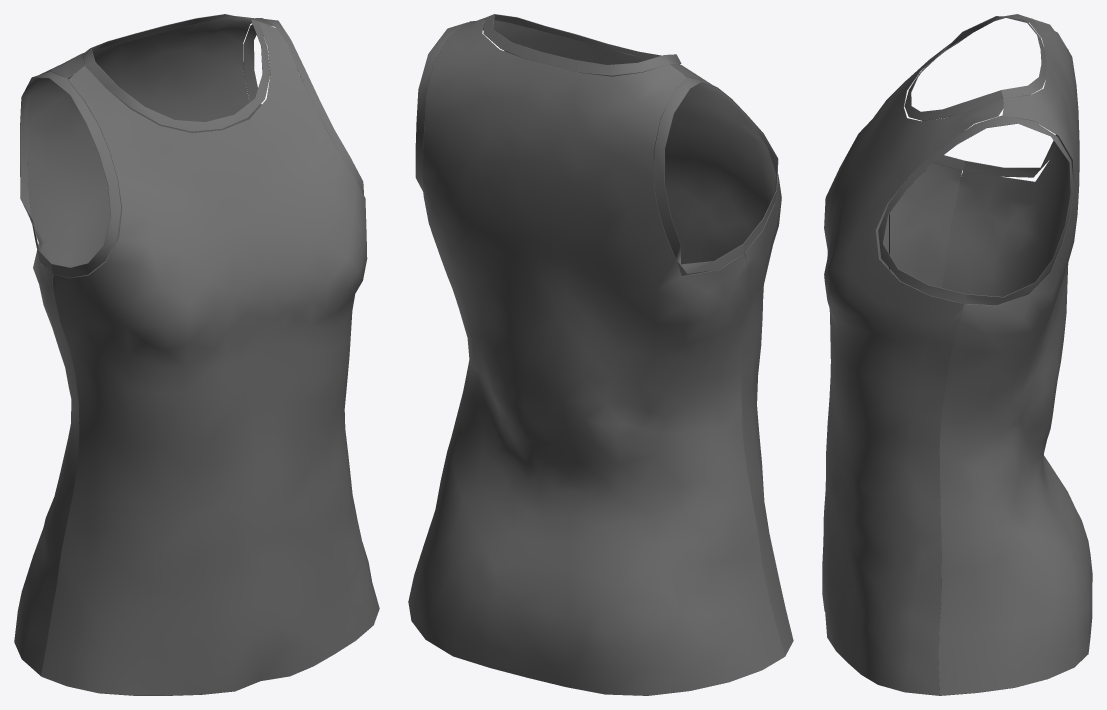
Rendered from tanktoplowpoly.fbx.
The picture shows the model from 3 angles, left to right: view 1: azimuth 30°, elevation 25°; view 2: azimuth 150°, elevation 25°; view 3: azimuth 270°, elevation 25°; orthographic projection. The views are drawn at different scales.
Visible parts, largest first — view 1: 前片_2; view 2: 前片_2; view 3: 前片_2.
Part boxes in pixels (x1=…): 前片_2: x1=14, y1=14, x2=379, y2=695; 前片_2: x1=408, y1=14, x2=793, y2=695; 前片_2: x1=822, y1=14, x2=1092, y2=695.
Bounding box in the file's own units: 34.78 × 58.43 × 25.03.
Materials: 16 (16 with a texture image).
